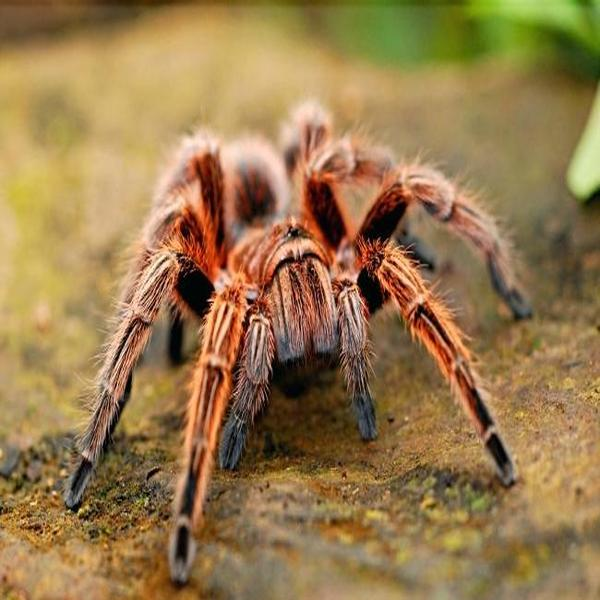Tarantula Spider: (79, 128, 517, 571)
